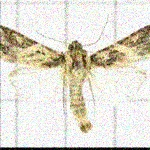Spodoptera litura: (0, 9, 149, 132)
